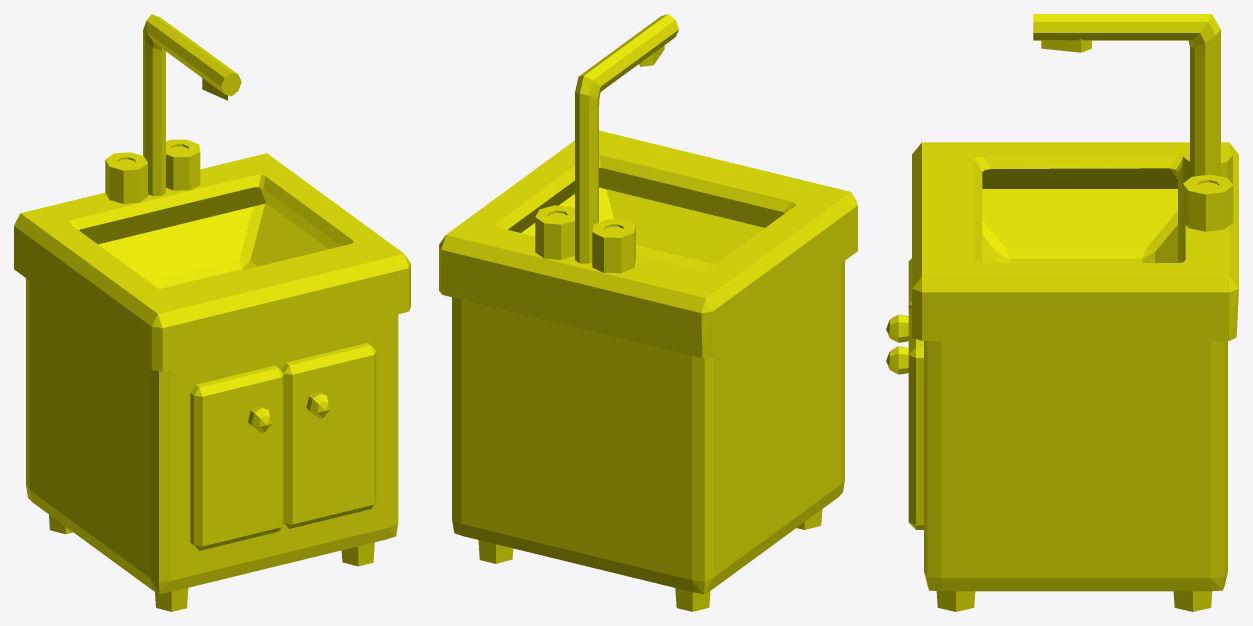
3 views of the same model, side by side, from view 1: azimuth 30°, elevation 25°; view 2: azimuth 150°, elevation 25°; view 3: azimuth 270°, elevation 25° (orthographic). The views are drawn at different scales.
Parts seen in each view (by area): view 1: watertap; view 2: watertap; view 3: watertap.
Boxes of the visible parts, x1,y1,x2,y2 form: watertap: [14, 14, 410, 611]; watertap: [439, 14, 857, 611]; watertap: [886, 14, 1238, 611].
Size of the model in its own units: 0.00924 by 0.0165 by 0.00975.
1 material, 1 textured.
